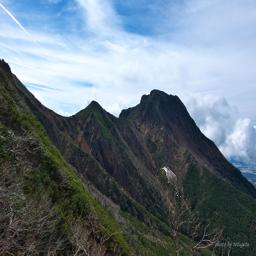Cuckoo: (161, 166, 181, 198)
